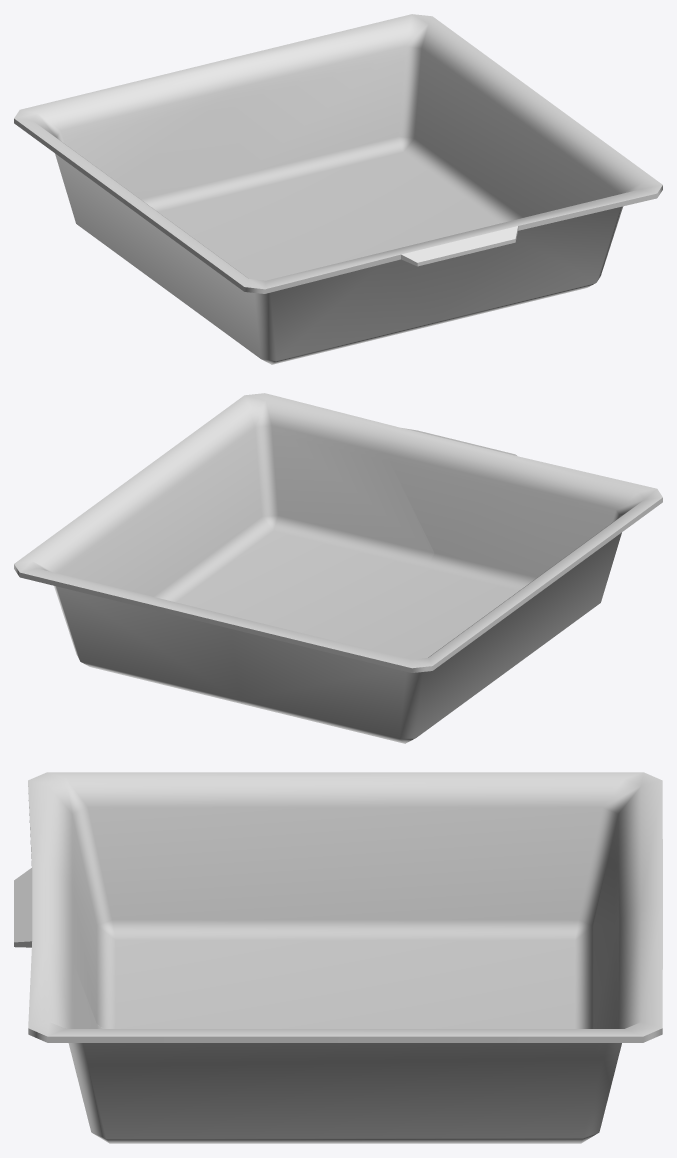
Rendered from 011-Shell01.FBX.
3 renders of one model, top to bottom at view 1: azimuth 30°, elevation 25°; view 2: azimuth 150°, elevation 25°; view 3: azimuth 270°, elevation 25°, orthographic. The views are drawn at different scales.
Parts seen in each view (by area): view 1: 011-Shell01; view 2: 011-Shell01; view 3: 011-Shell01.
Boxes of the visible parts, <box> form: 011-Shell01: <box>14,14,662,364</box>; 011-Shell01: <box>14,393,662,743</box>; 011-Shell01: <box>14,772,662,1143</box>.
Bounding box in the file's own units: 26.14 × 6.47 × 27.12.
